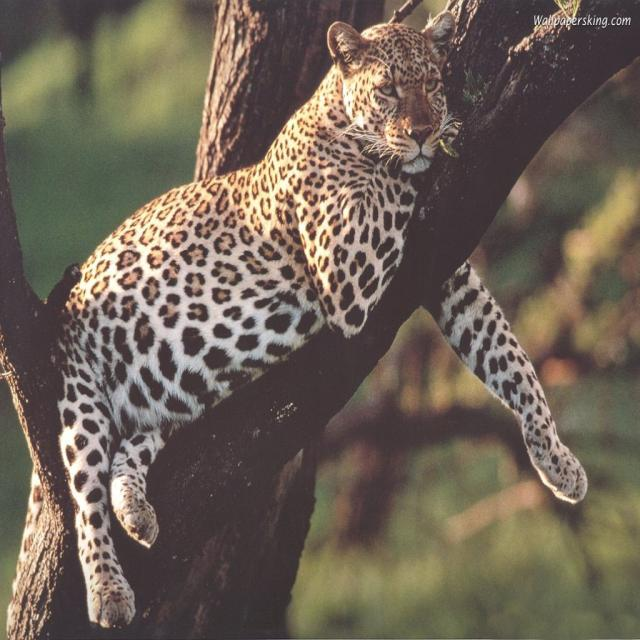Leopard: (48, 8, 588, 631)
